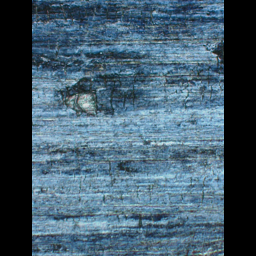d: (52, 73, 107, 118)
